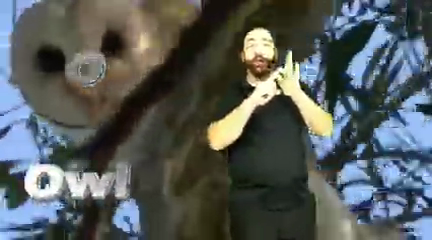O: (239, 49, 309, 106)
